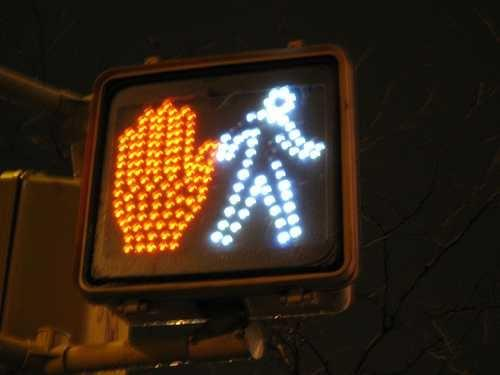green: (214, 77, 336, 268)
red: (104, 88, 215, 268)
